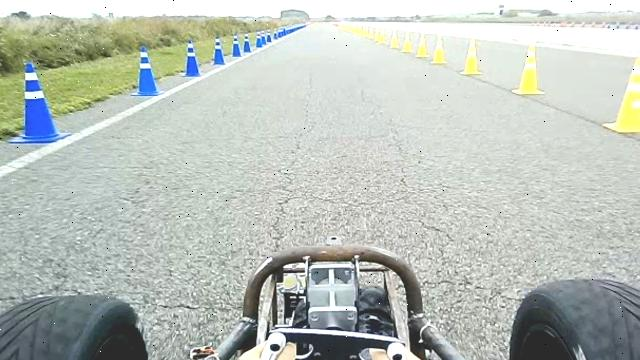blue cone: (7, 61, 71, 144), (130, 45, 163, 96), (181, 39, 201, 77), (212, 36, 226, 65), (231, 33, 242, 57), (242, 32, 252, 53), (259, 29, 268, 46), (255, 30, 263, 47), (265, 29, 272, 44)
yellow cone: (602, 56, 640, 134), (511, 43, 545, 95), (459, 36, 482, 75), (430, 33, 447, 64), (414, 31, 428, 58), (401, 30, 412, 53), (390, 30, 400, 49), (377, 27, 386, 44), (373, 28, 380, 42)
